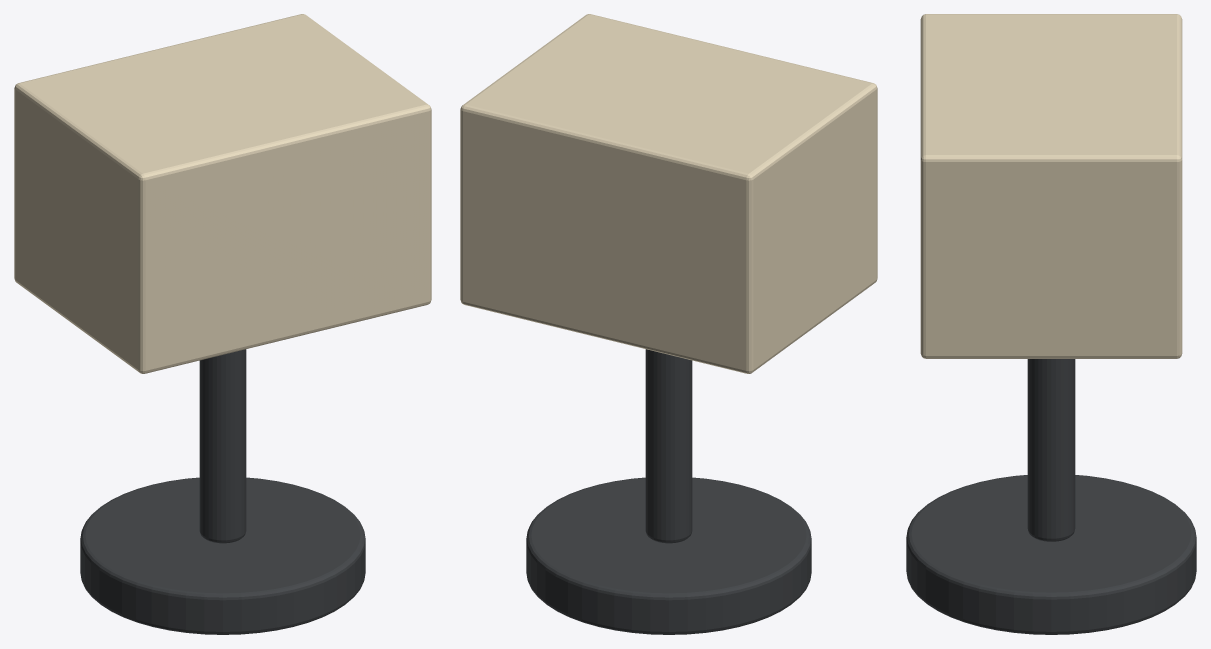
The model's file is table-lamp-01.glb.
The picture shows the model from 3 angles, left to right: view 1: azimuth 30°, elevation 25°; view 2: azimuth 150°, elevation 25°; view 3: azimuth 270°, elevation 25°; orthographic projection.
Parts seen in each view (by area): view 1: table-lamp-01; view 2: table-lamp-01; view 3: table-lamp-01.
Part boxes in pixels (<box>): table-lamp-01: <box>14,14,431,634</box>; table-lamp-01: <box>460,14,877,634</box>; table-lamp-01: <box>906,14,1196,634</box>.
Bounding box in the file's own units: 0.26 × 0.41 × 0.22.
